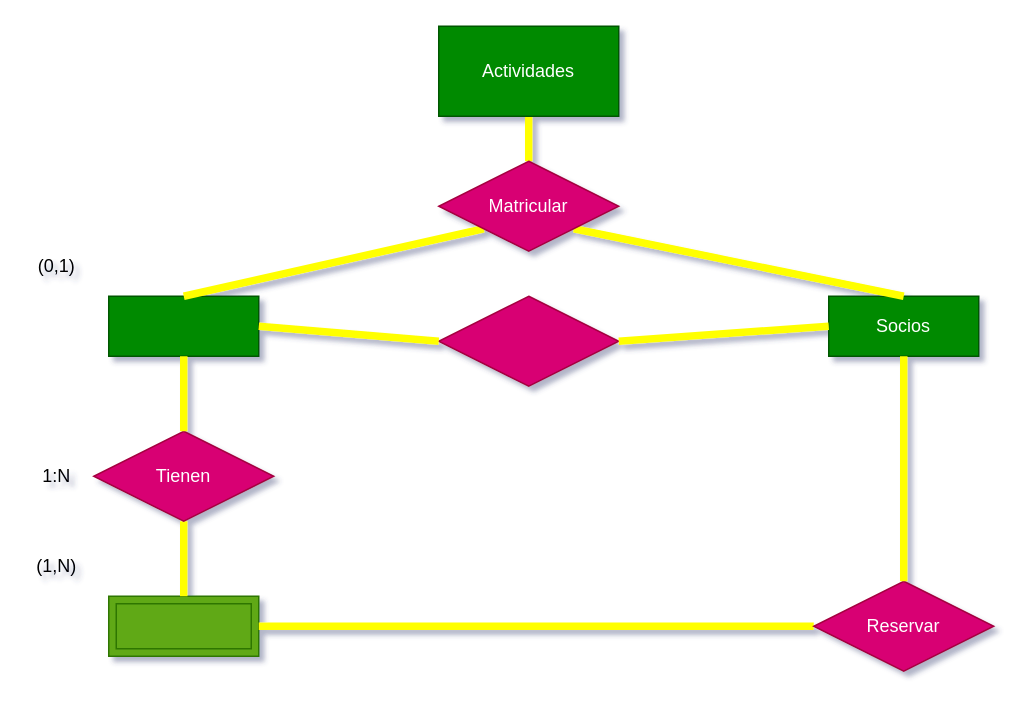
Some shapes in this 1029 by 707 pixel diagram are drawn without their labels. The centre of each missing label's shape, as x and y in pixels:
Centro: pixel 183 325
Pertenecen: pixel 528 340
Sala: pixel 183 625
